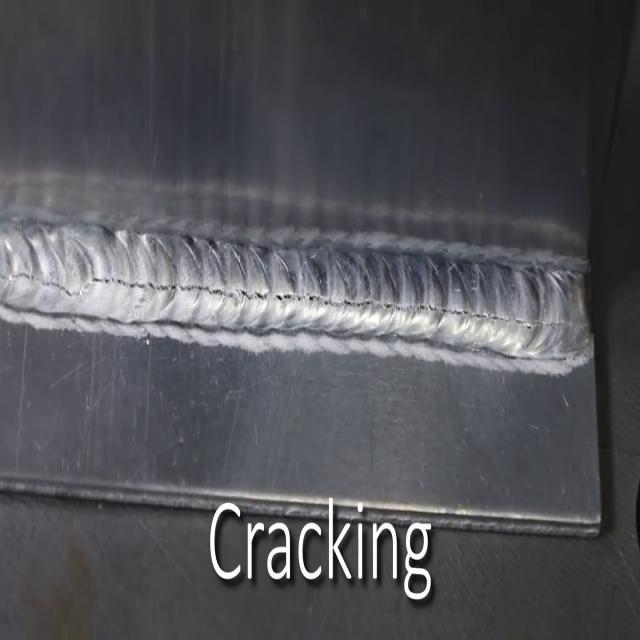Bad Welding: (0, 210, 586, 383)
Crack: (2, 250, 584, 346)
